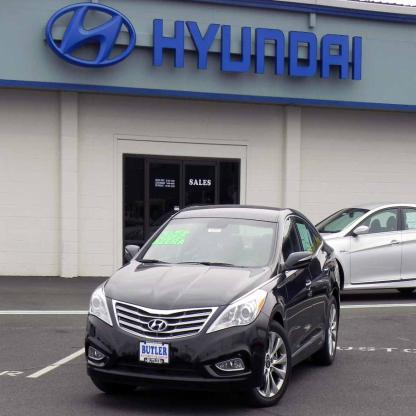Vehicle: (82, 201, 347, 405)
